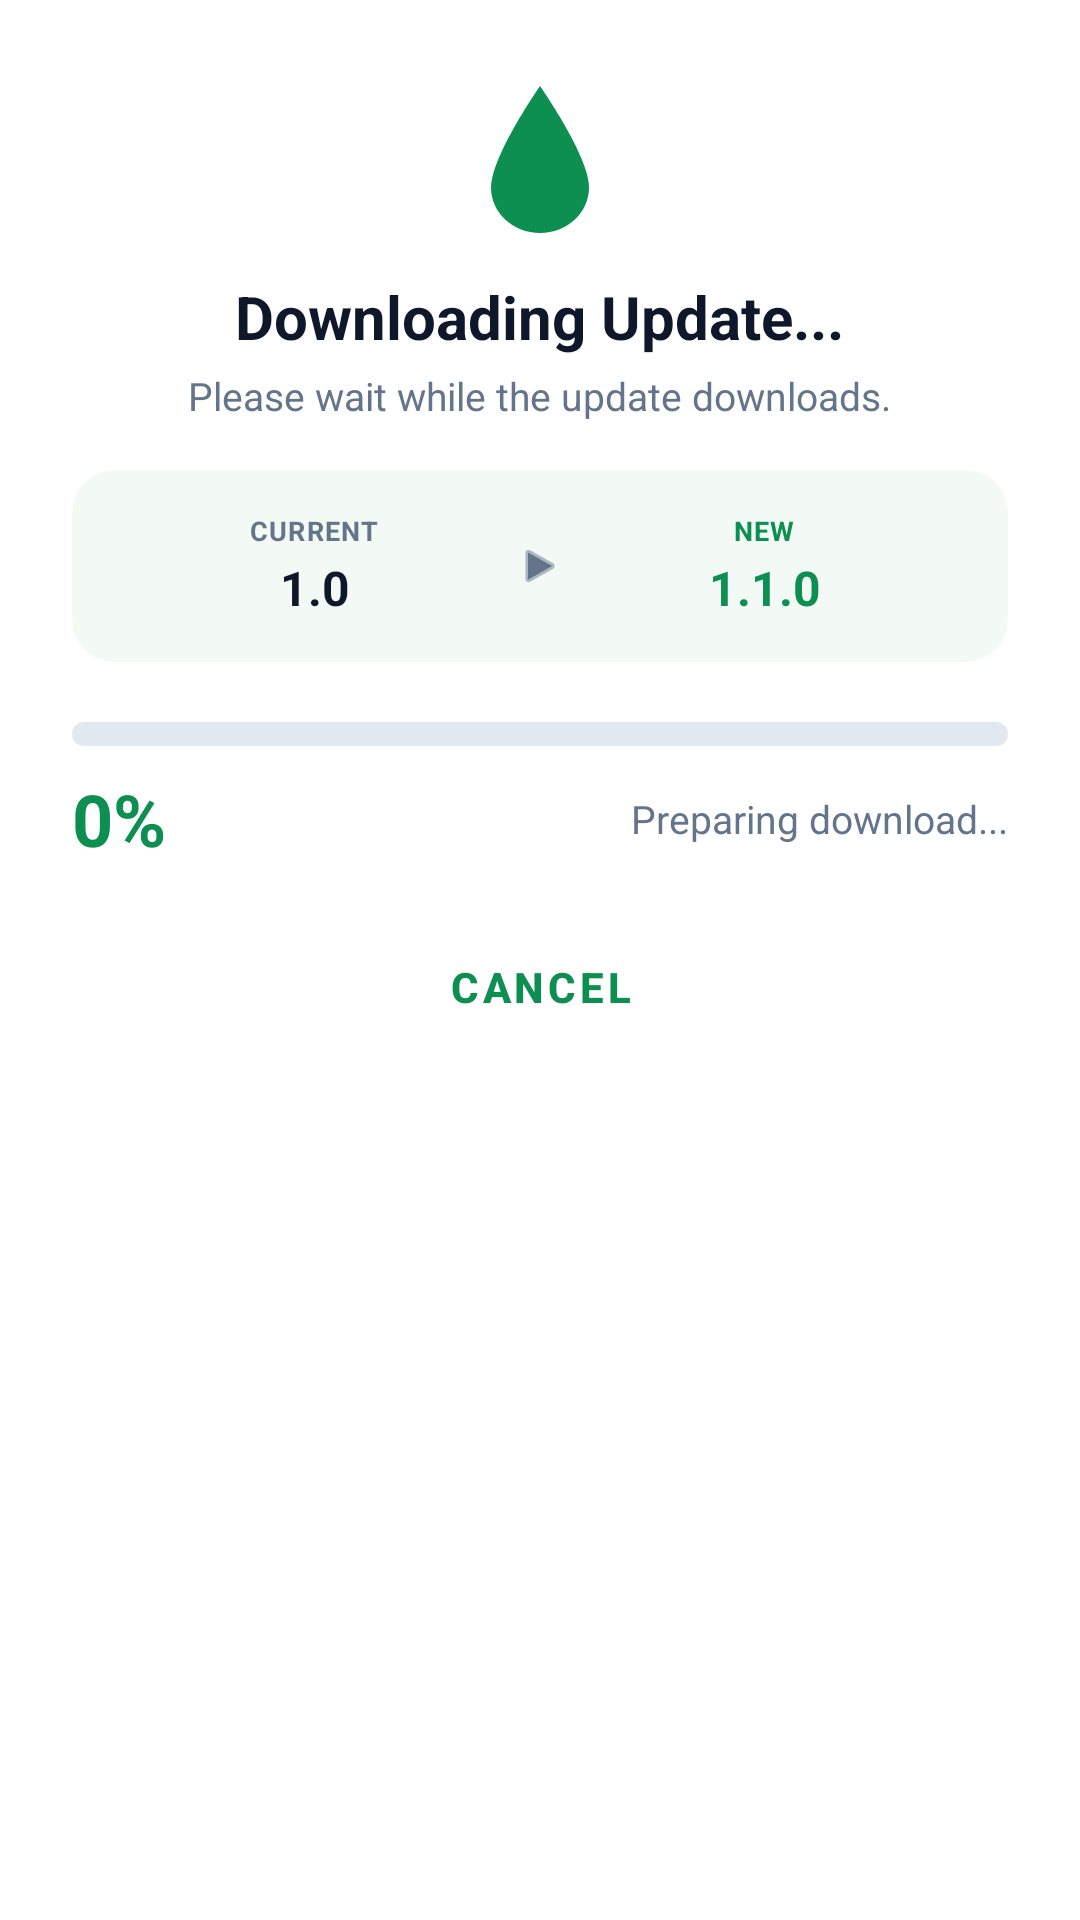

Where to tap for icons on this 1080 x 1920 app screen, as point (x, y):
arrow: point (540, 566)
